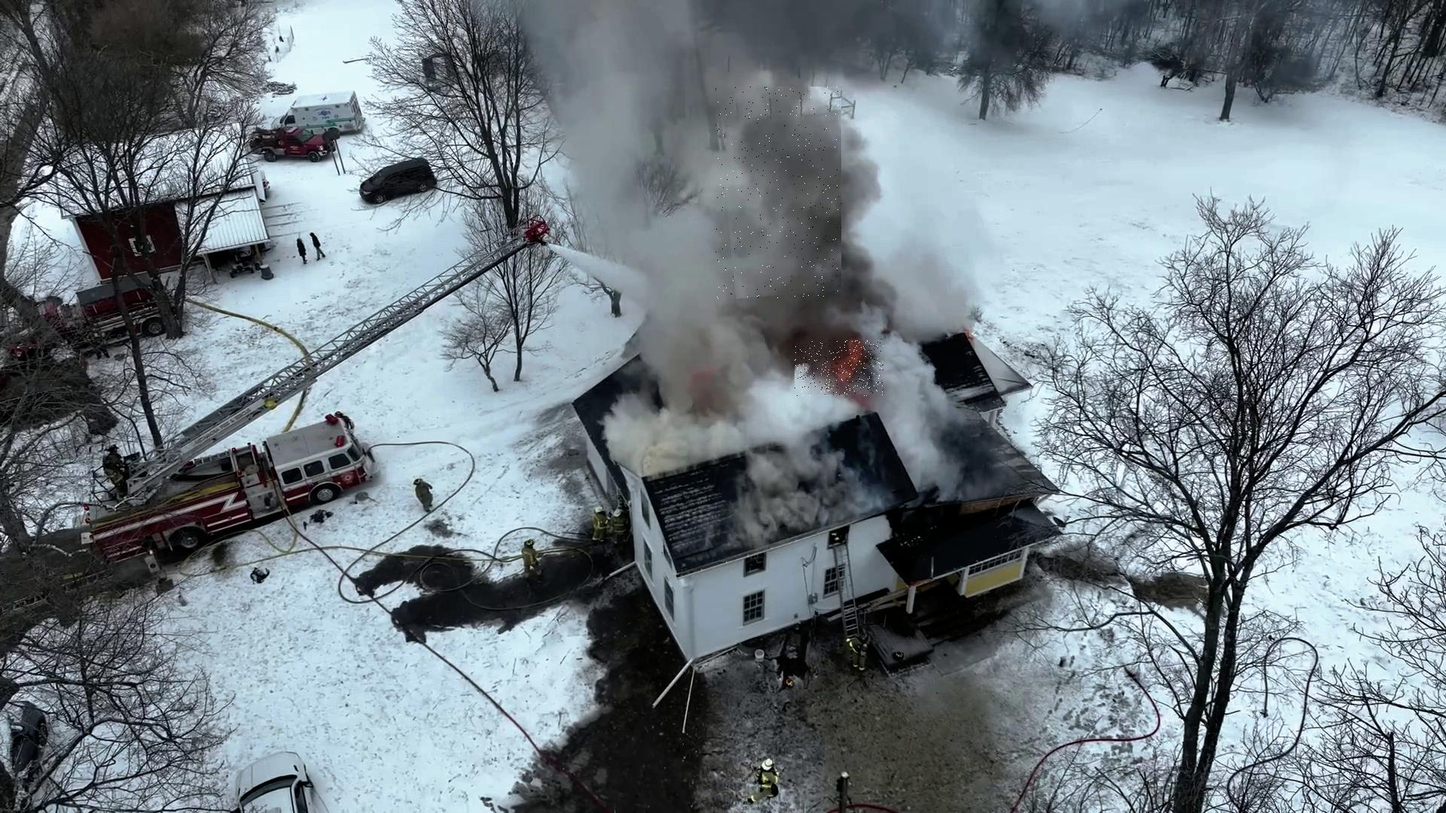fire: (795, 341, 884, 397)
smoke: (716, 87, 841, 299)
